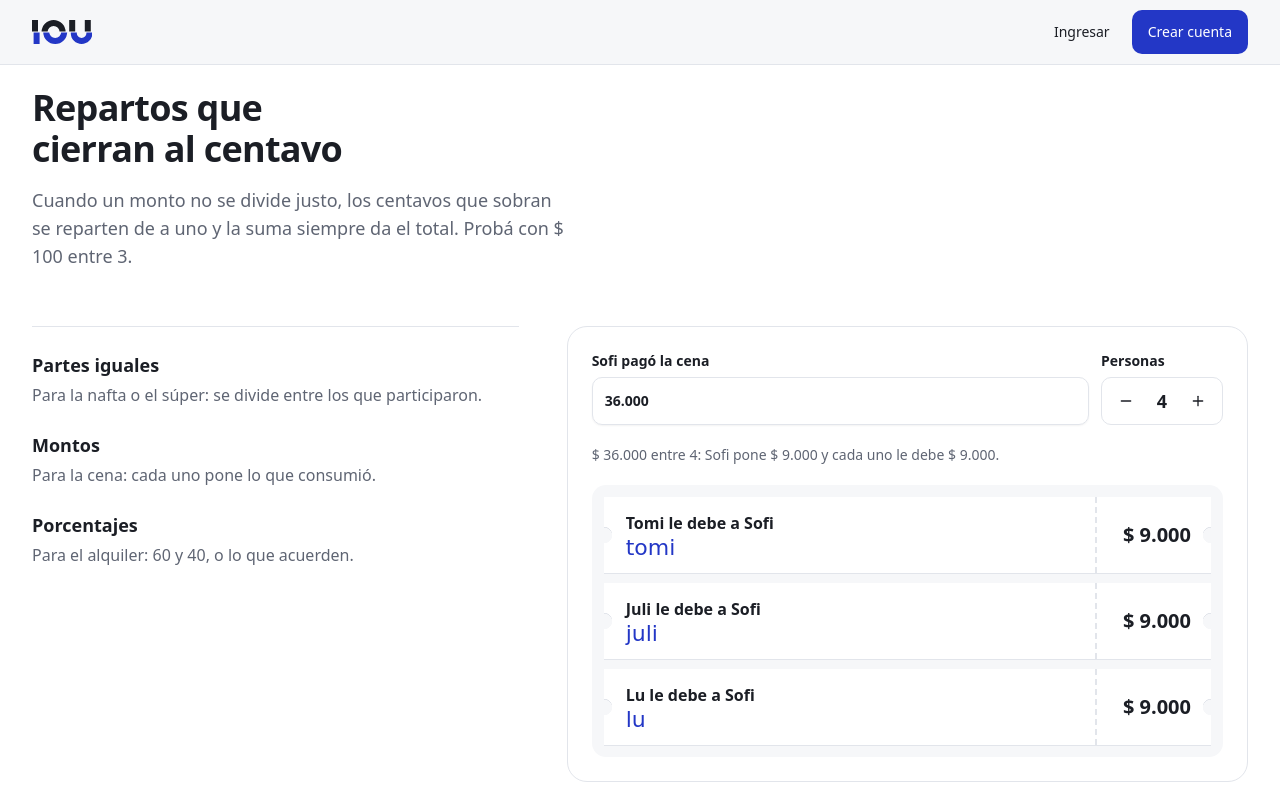
Test: la demo recalcula los vales al cambiar la cantidad de personas (CA-30.2)
(page scrolled)
Click the button named "Una persona menos".
click(1126, 401)  # box [1104,379,1148,423]
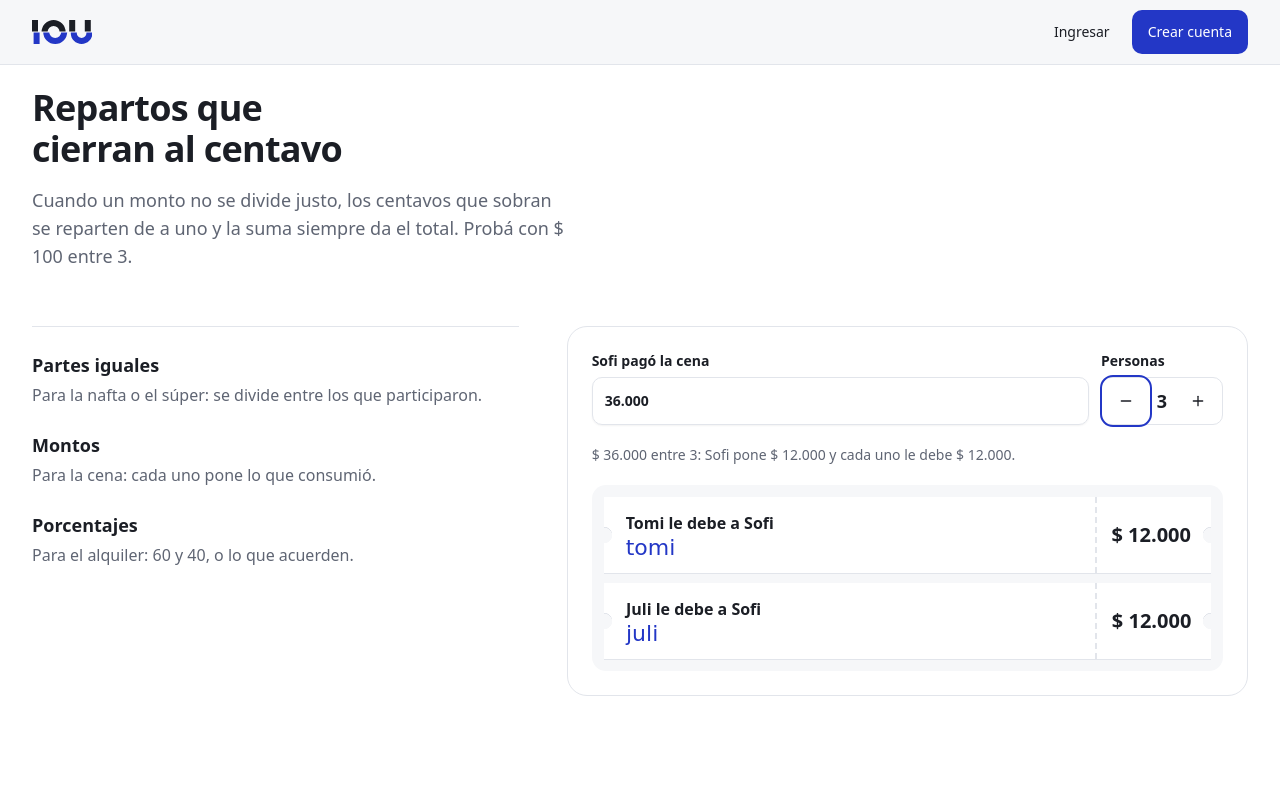
Check: the element with test id "vale" shows "$ 12.000", box [1112,521,1191,548]
